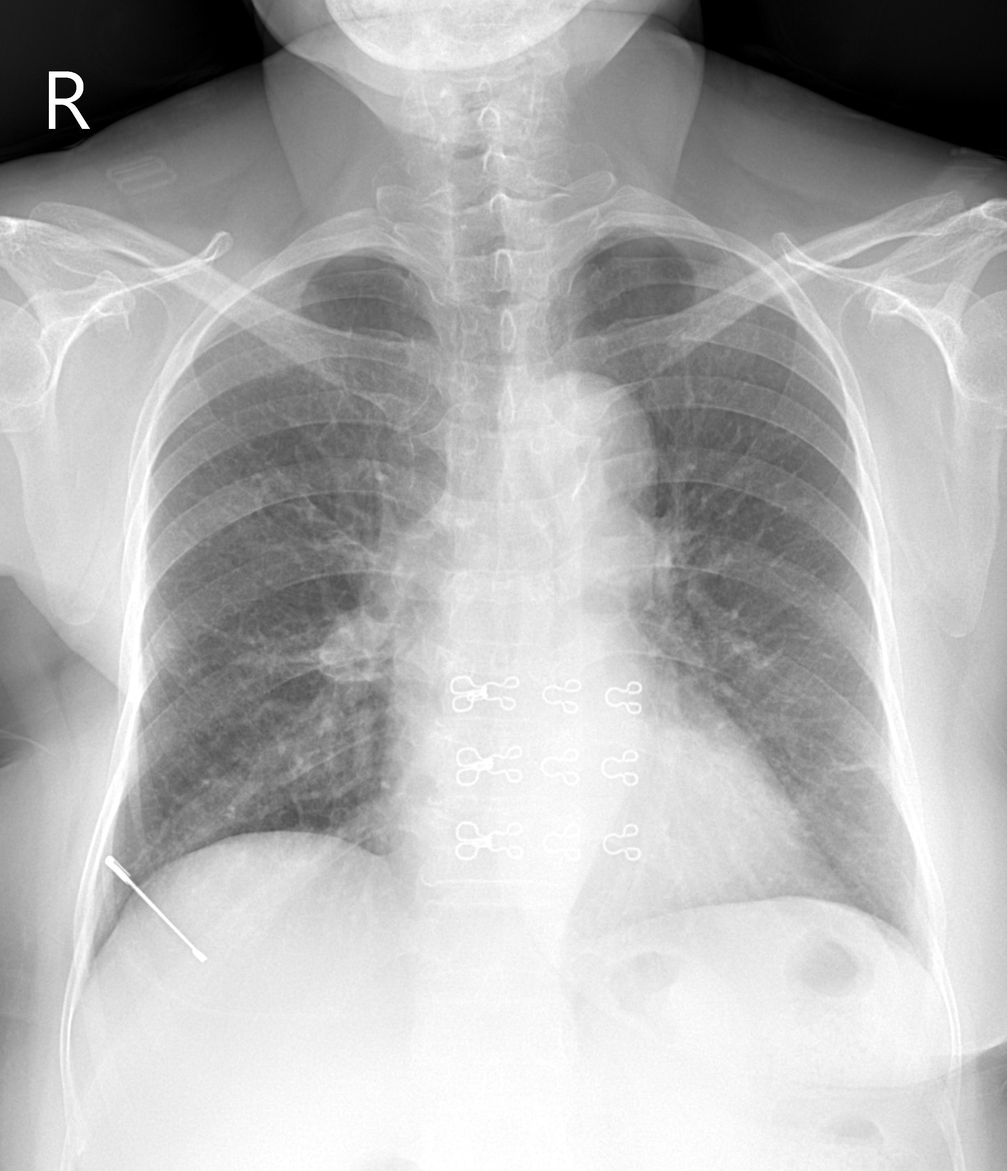Aortic enlargement: (525, 372, 656, 514)
Pulmonary fibrosis: (833, 752, 884, 775)
